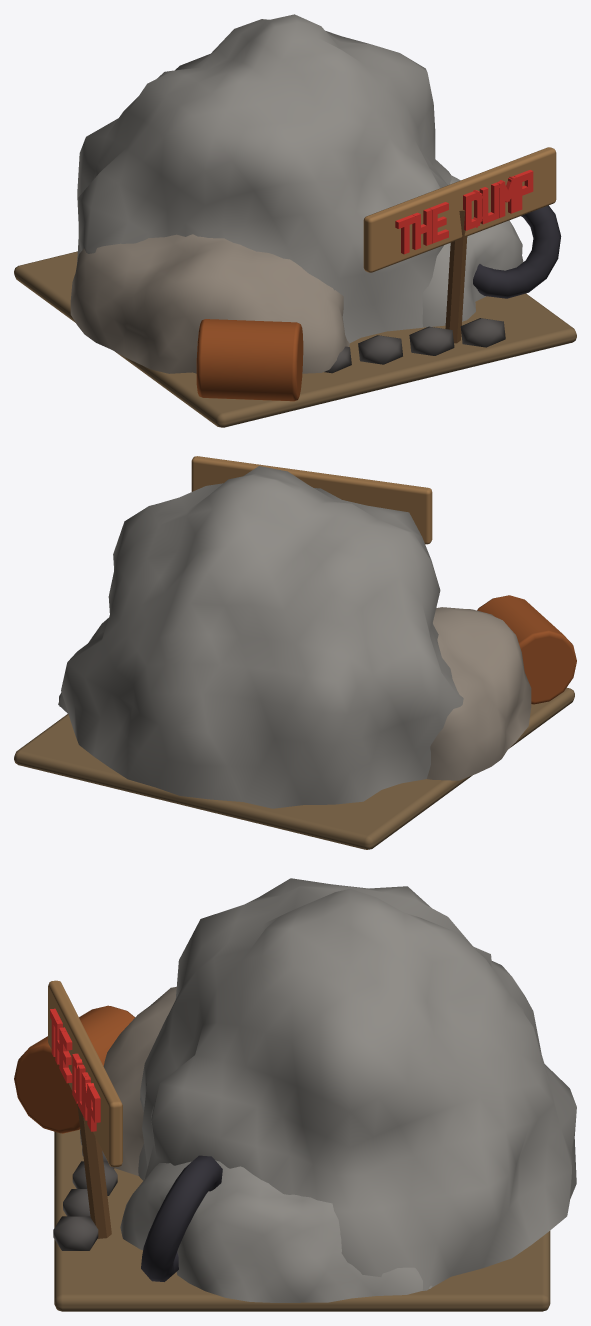
The model's file is building_spoil_heap_t1.glb.
3 views of the same model, one above another, from view 1: azimuth 30°, elevation 25°; view 2: azimuth 150°, elevation 25°; view 3: azimuth 270°, elevation 25° (orthographic). The views are drawn at different scales.
Visible parts, largest first — view 1: Heap.Lump0, Heap.Lump1, Lot, Barrel, Sign.Board, Heap.Lump2, Tyre, Heap.Stone, Sign.Post; view 2: Heap.Lump0, Lot, Heap.Lump1, Sign.Board, Barrel; view 3: Heap.Lump0, Heap.Lump2, Lot, Barrel, Heap.Lump1, Tyre, Sign.Board, Heap.Stone, Sign.Post.
Boxes of the visible parts, bbox=[...] form: Heap.Lump0: bbox=[77, 14, 451, 342]; Heap.Lump1: bbox=[70, 234, 349, 373]; Lot: bbox=[14, 251, 576, 427]; Barrel: bbox=[196, 319, 303, 401]; Sign.Board: bbox=[363, 147, 556, 272]; Heap.Lump2: bbox=[422, 175, 523, 327]; Tyre: bbox=[473, 205, 561, 298]; Heap.Stone: bbox=[324, 318, 505, 373]; Sign.Post: bbox=[445, 209, 467, 343]; Heap.Lump0: bbox=[58, 466, 463, 808]; Lot: bbox=[14, 688, 574, 849]; Heap.Lump1: bbox=[427, 607, 531, 780]; Sign.Board: bbox=[191, 456, 432, 544]; Barrel: bbox=[477, 595, 576, 704]; Heap.Lump0: bbox=[138, 878, 576, 1290]; Heap.Lump2: bbox=[120, 1160, 432, 1302]; Lot: bbox=[54, 1129, 550, 1311]; Barrel: bbox=[14, 1005, 134, 1133]; Heap.Lump1: bbox=[80, 987, 176, 1175]; Tyre: bbox=[141, 1155, 222, 1281]; Sign.Board: bbox=[48, 980, 122, 1167]; Heap.Stone: bbox=[53, 1148, 117, 1250]; Sign.Post: bbox=[77, 1103, 111, 1238].
Size of the model in its own units: 2.37 by 1.47 by 2.34.
